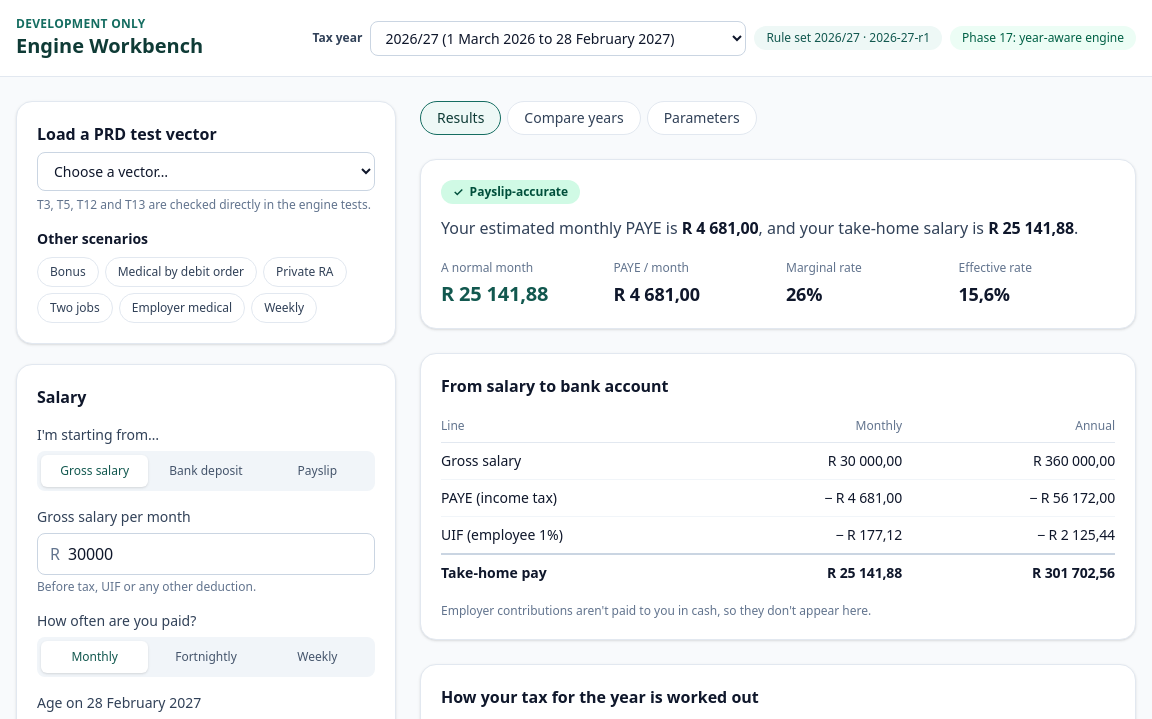
it: Workbench: year dropdown › does not show 2026/27 expected figures against another year
The width and height of the screenshot is (1152, 719).
Select "T1 · R30 000, 10% pension, medical main + 1" in the dropdown labelled "Load a PRD test vector" at (206, 172), box [37, 152, 375, 191]
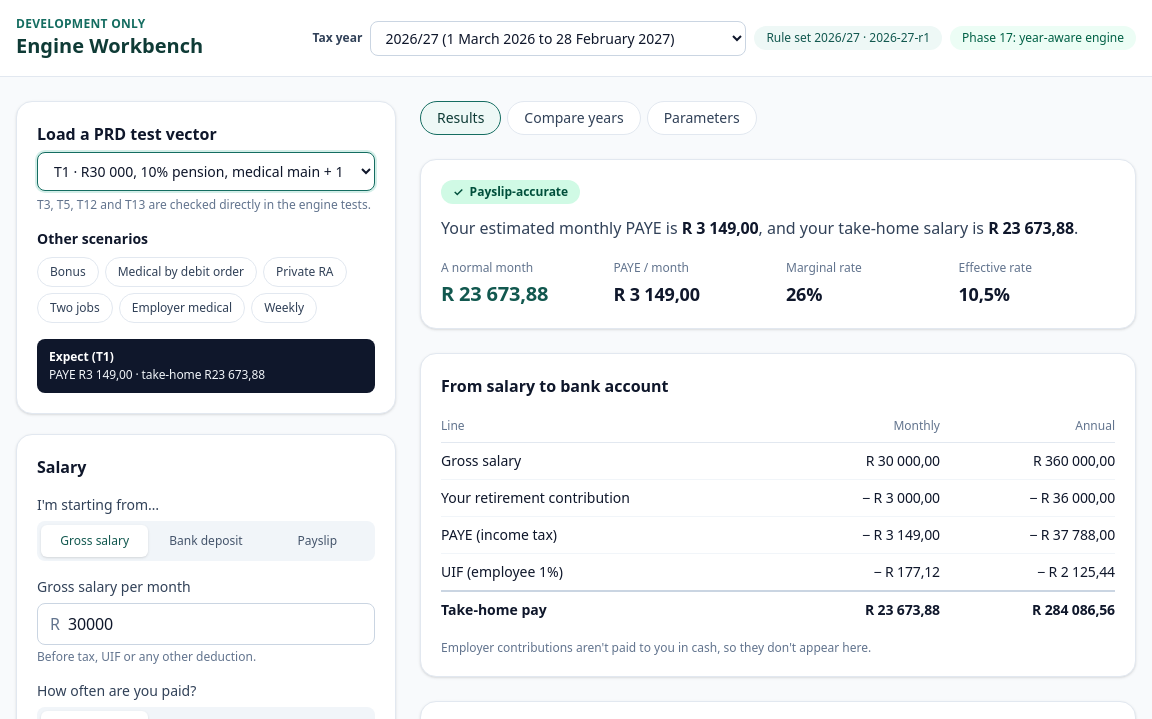
Result: the text "Expect (T1)" is shown at [49, 348, 114, 365]
Select "2025/26 (1 March 2025 to 28 February 2026) · Draft" in the dropdown labelled "Tax year" at (558, 38), box [370, 20, 746, 56]
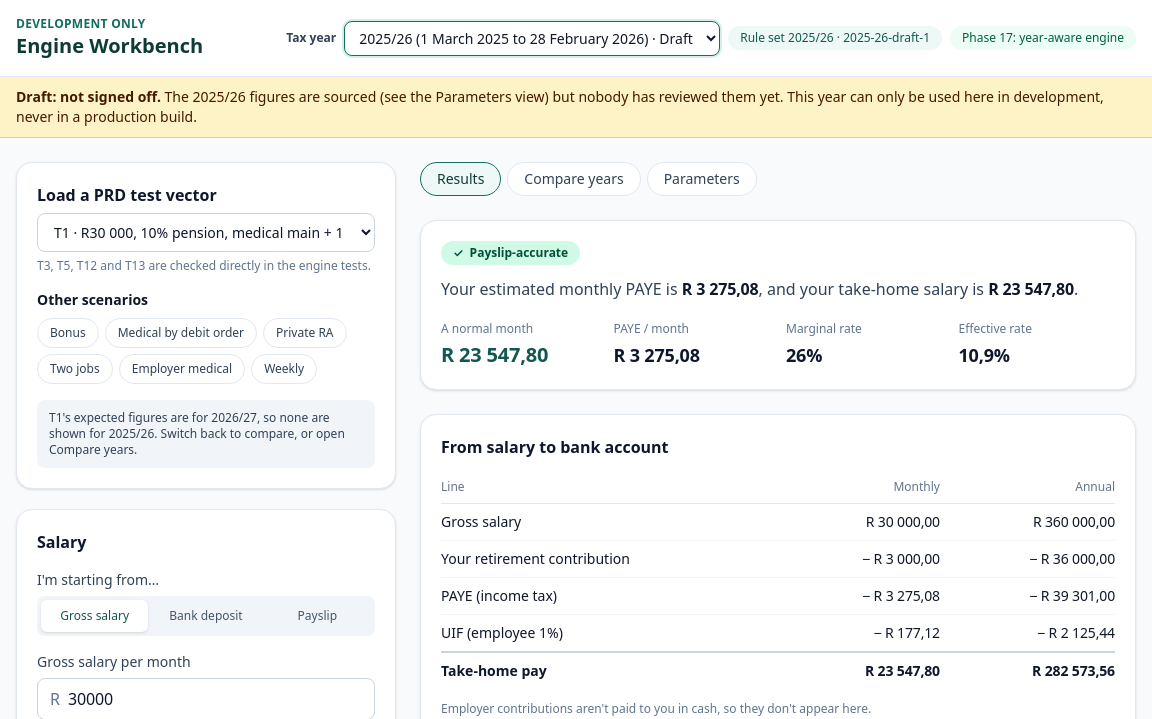
Result: the text "Expect (T1)" is gone
Result: the text "T1's expected figures are for 2026/27" is shown at [37, 400, 375, 468]
